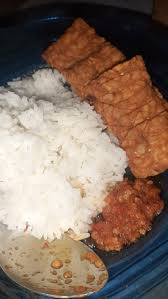Nasi putih: (0, 70, 125, 238)
Tempe goreng: (94, 55, 168, 183), (45, 19, 117, 97)
